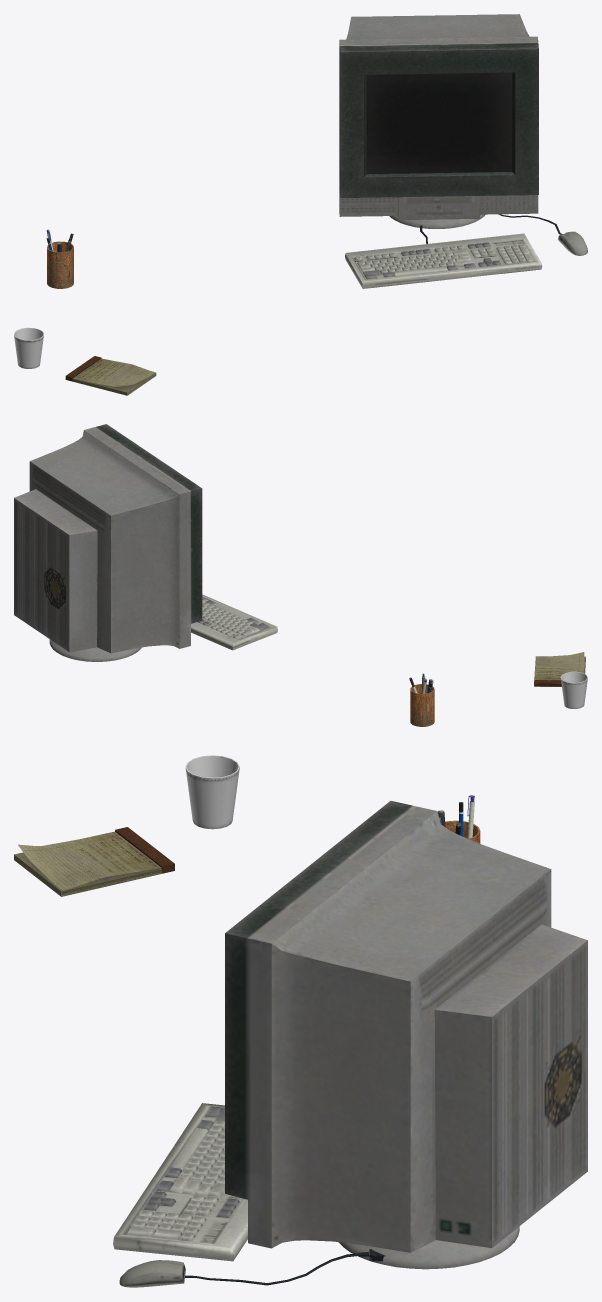
The model's file is sm39_028_officedesk03a.fbx.
The picture shows the model from 3 angles, top to bottom: view 1: azimuth 30°, elevation 25°; view 2: azimuth 150°, elevation 25°; view 3: azimuth 270°, elevation 25°; orthographic projection. The views are drawn at different scales.
Visible parts, largest first — view 1: LOD_1_Group_0_Sub_1__sm31_032_CommissionerPc01A_A_Mat, LOD_1_Group_0_Sub_4__sm42_002_DesktopPc01A_A_Mat, LOD_1_Group_0_Sub_5__sm36_013_Notepad01A_A_Mat, LOD_1_Group_0_Sub_2__sm36_031_Penholder01A_E_Mat, LOD_1_Group_0_Sub_6__sm36_014_PaperCup01A_A_Mat1, LOD_1_Group_1_Sub_1__sm31_032_CommissionerPc01A_A_Mat; view 2: LOD_1_Group_0_Sub_1__sm31_032_CommissionerPc01A_A_Mat, LOD_1_Group_0_Sub_4__sm42_002_DesktopPc01A_A_Mat, LOD_1_Group_0_Sub_5__sm36_013_Notepad01A_A_Mat, LOD_1_Group_0_Sub_2__sm36_031_Penholder01A_E_Mat, LOD_1_Group_0_Sub_6__sm36_014_PaperCup01A_A_Mat1, LOD_1_Group_1_Sub_1__sm31_032_CommissionerPc01A_A_Mat; view 3: LOD_1_Group_0_Sub_1__sm31_032_CommissionerPc01A_A_Mat, LOD_1_Group_0_Sub_4__sm42_002_DesktopPc01A_A_Mat, LOD_1_Group_0_Sub_5__sm36_013_Notepad01A_A_Mat, LOD_1_Group_0_Sub_6__sm36_014_PaperCup01A_A_Mat1, LOD_1_Group_1_Sub_1__sm31_032_CommissionerPc01A_A_Mat, LOD_1_Group_0_Sub_2__sm36_031_Penholder01A_E_Mat, LOD_1_Group_0_Sub_3__sm31_021_KeyBoard01A_A_Mat1.
Boxes of the visible parts, x1=… form: LOD_1_Group_0_Sub_1__sm31_032_CommissionerPc01A_A_Mat: x1=339, y1=14, x2=538, y2=219; LOD_1_Group_0_Sub_4__sm42_002_DesktopPc01A_A_Mat: x1=345, y1=231, x2=587, y2=288; LOD_1_Group_0_Sub_5__sm36_013_Notepad01A_A_Mat: x1=65, y1=356, x2=156, y2=395; LOD_1_Group_0_Sub_2__sm36_031_Penholder01A_E_Mat: x1=46, y1=229, x2=73, y2=288; LOD_1_Group_0_Sub_6__sm36_014_PaperCup01A_A_Mat1: x1=14, y1=327, x2=43, y2=368; LOD_1_Group_1_Sub_1__sm31_032_CommissionerPc01A_A_Mat: x1=389, y1=214, x2=485, y2=228; LOD_1_Group_0_Sub_1__sm31_032_CommissionerPc01A_A_Mat: x1=14, y1=424, x2=202, y2=653; LOD_1_Group_0_Sub_4__sm42_002_DesktopPc01A_A_Mat: x1=191, y1=594, x2=277, y2=650; LOD_1_Group_0_Sub_5__sm36_013_Notepad01A_A_Mat: x1=534, y1=652, x2=585, y2=686; LOD_1_Group_0_Sub_2__sm36_031_Penholder01A_E_Mat: x1=409, y1=673, x2=434, y2=726; LOD_1_Group_0_Sub_6__sm36_014_PaperCup01A_A_Mat1: x1=560, y1=671, x2=587, y2=708; LOD_1_Group_1_Sub_1__sm31_032_CommissionerPc01A_A_Mat: x1=49, y1=639, x2=141, y2=661; LOD_1_Group_0_Sub_1__sm31_032_CommissionerPc01A_A_Mat: x1=225, y1=801, x2=587, y2=1252; LOD_1_Group_0_Sub_4__sm42_002_DesktopPc01A_A_Mat: x1=113, y1=1103, x2=247, y2=1287; LOD_1_Group_0_Sub_5__sm36_013_Notepad01A_A_Mat: x1=14, y1=827, x2=174, y2=896; LOD_1_Group_0_Sub_6__sm36_014_PaperCup01A_A_Mat1: x1=185, y1=755, x2=239, y2=829; LOD_1_Group_1_Sub_1__sm31_032_CommissionerPc01A_A_Mat: x1=339, y1=1226, x2=519, y2=1269; LOD_1_Group_0_Sub_2__sm36_031_Penholder01A_E_Mat: x1=437, y1=795, x2=480, y2=843; LOD_1_Group_0_Sub_3__sm31_021_KeyBoard01A_A_Mat1: x1=185, y1=1249, x2=385, y2=1285.
Size of the model in its own units: 1.56 by 0.5082 by 0.7757.
